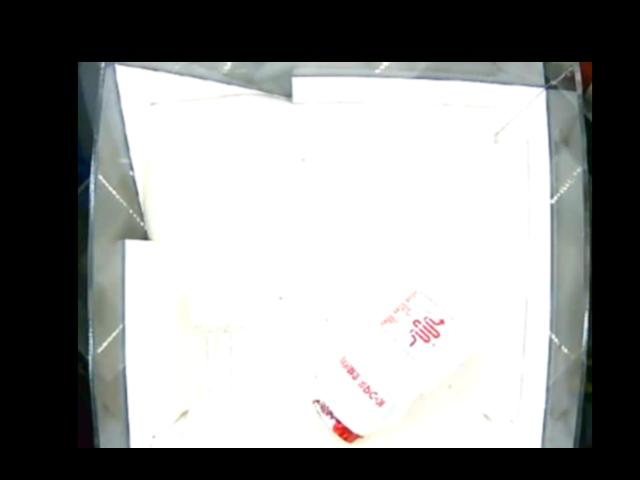Bottle: (310, 279, 478, 443), (191, 290, 248, 409)
